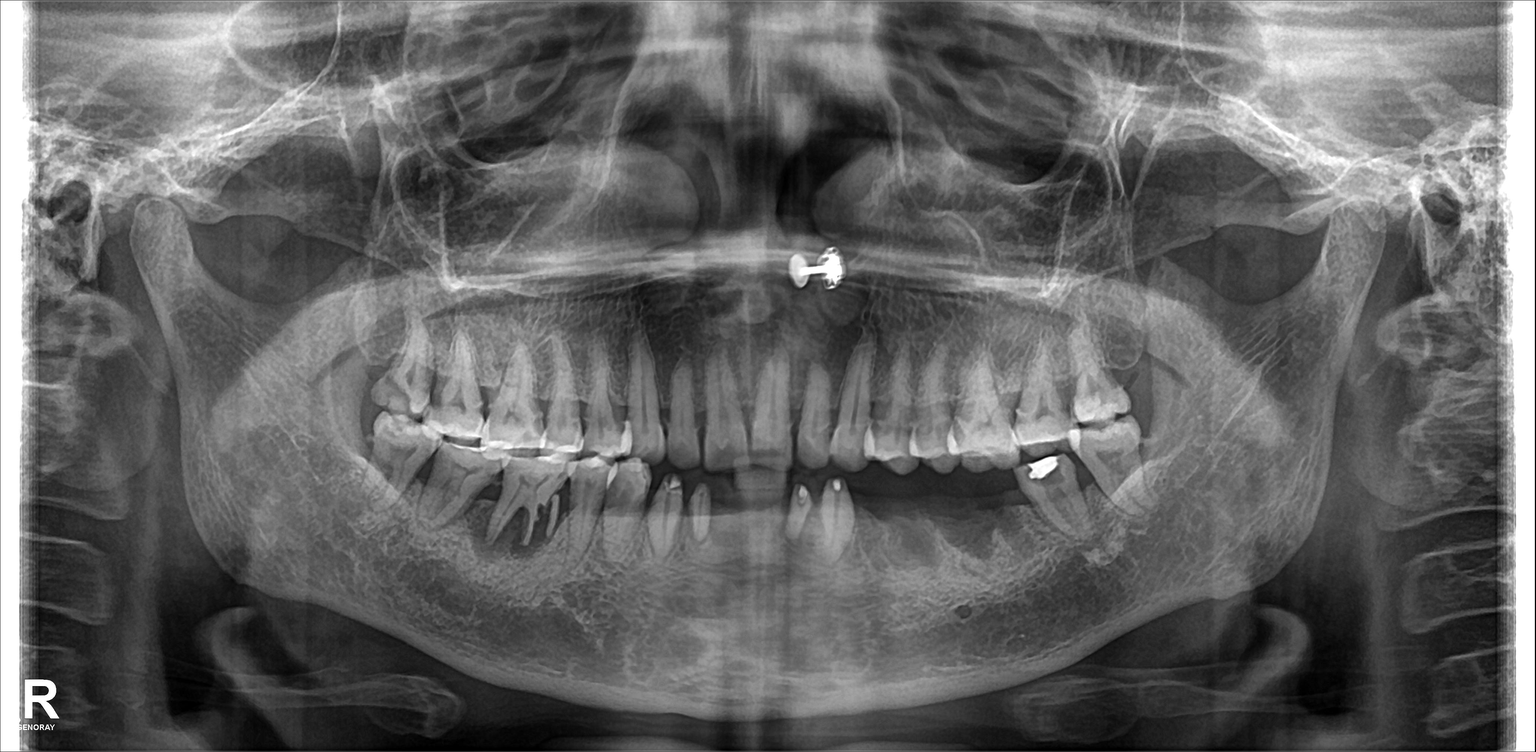Endodontically Treated Tooth: (1026, 454, 1091, 562)
Missing Tooth: (1110, 324, 1174, 437), (959, 480, 1016, 575), (907, 486, 951, 568), (851, 491, 897, 568)
Periapical Lesion: (473, 478, 569, 557)
